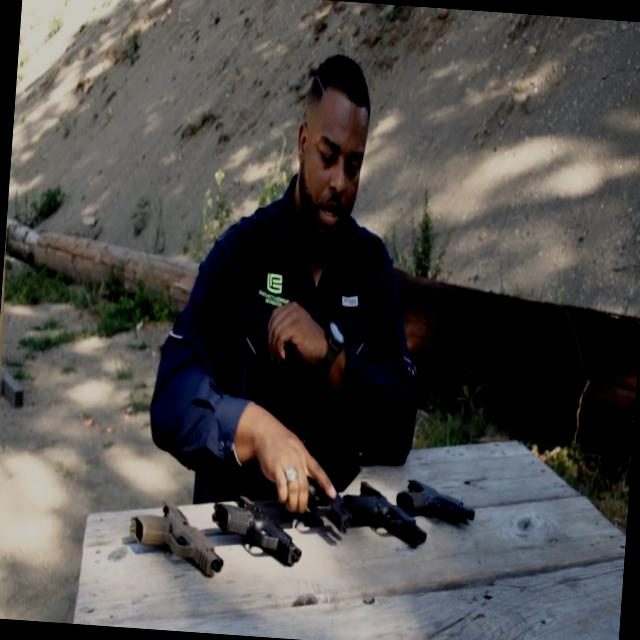handgun: (206, 472, 310, 581), (125, 490, 232, 580), (337, 459, 432, 559), (392, 466, 482, 538)
